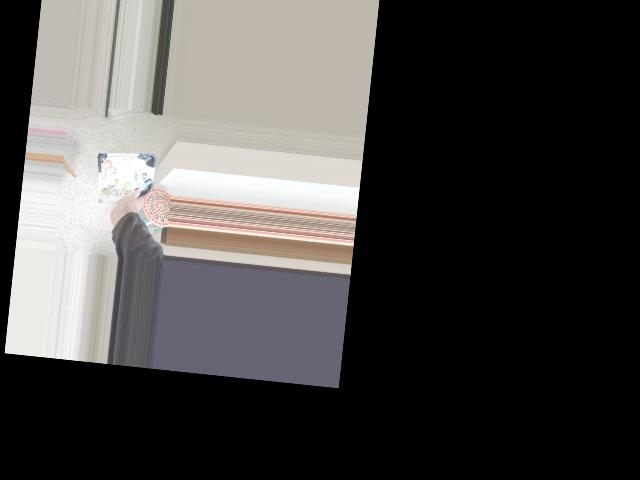cheese: (91, 160, 154, 225)
